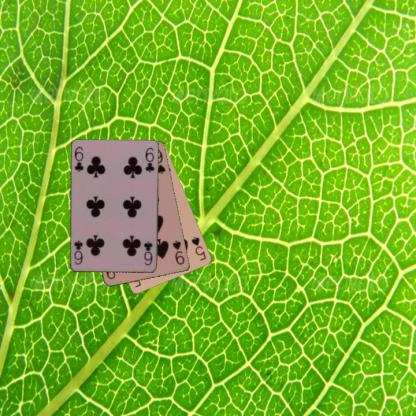5s: (189, 234, 207, 262)
6c: (141, 239, 155, 267), (72, 144, 85, 173)
9s: (170, 238, 186, 266)
